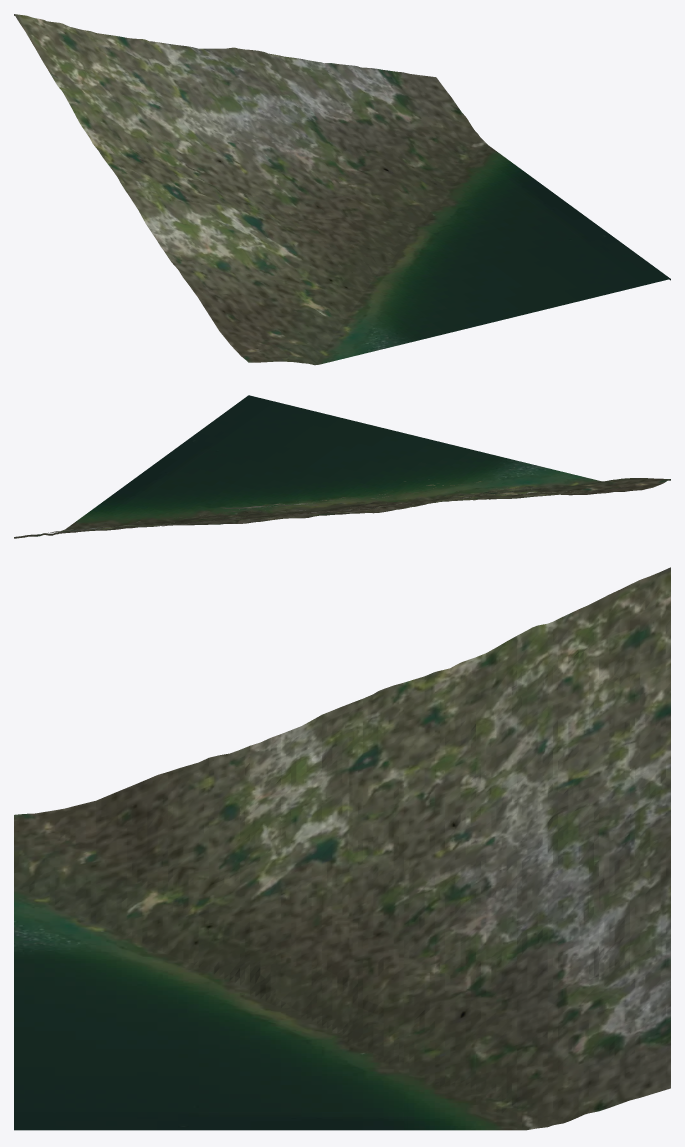
3 renders of one model, top to bottom at view 1: azimuth 30°, elevation 25°; view 2: azimuth 150°, elevation 25°; view 3: azimuth 270°, elevation 25°, orthographic. The views are drawn at different scales.
Bounding box in the file's own units: 250 × 112 × 241.
1 material, 1 textured.
